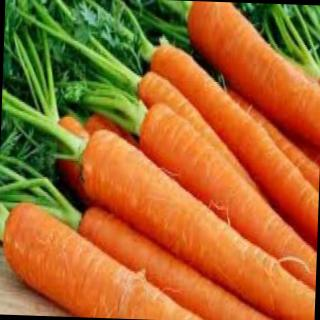Wortel: (46, 121, 320, 320), (1, 199, 207, 320), (184, 1, 320, 145)
